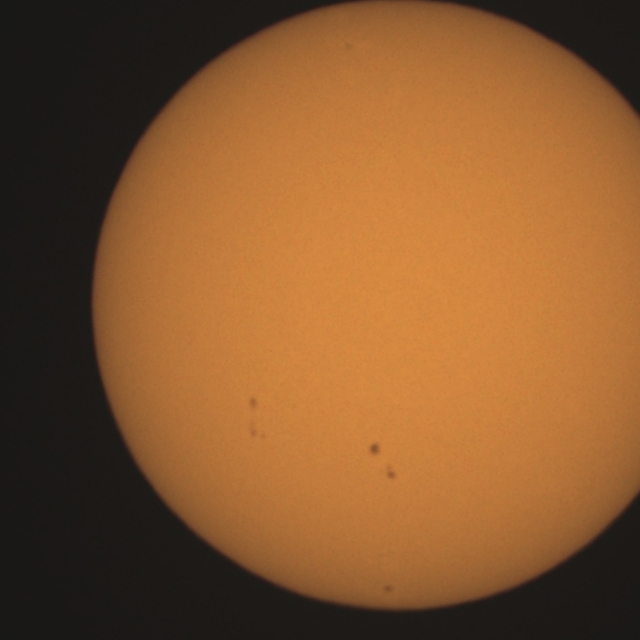sunspot: (248, 424, 267, 442), (384, 465, 398, 482), (368, 441, 382, 458), (247, 395, 259, 412), (381, 583, 395, 596)
